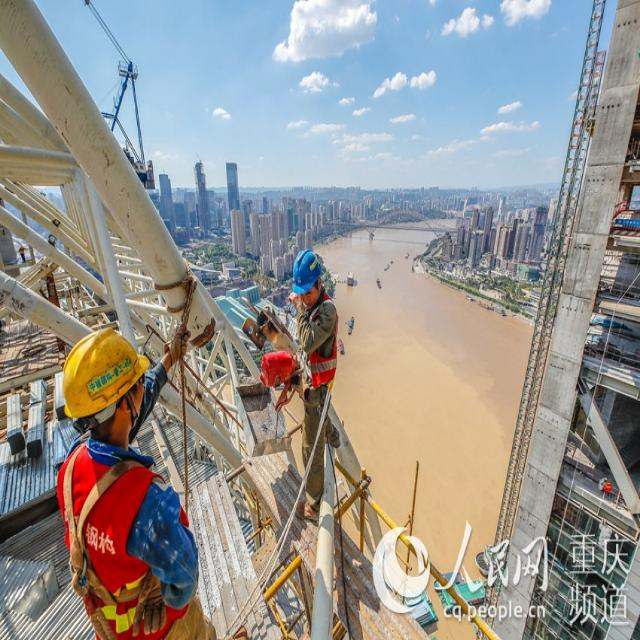Reflective-Jacket: (59, 442, 165, 634), (304, 298, 339, 391)
Safety-Helmet: (61, 324, 151, 420), (290, 244, 323, 293)
